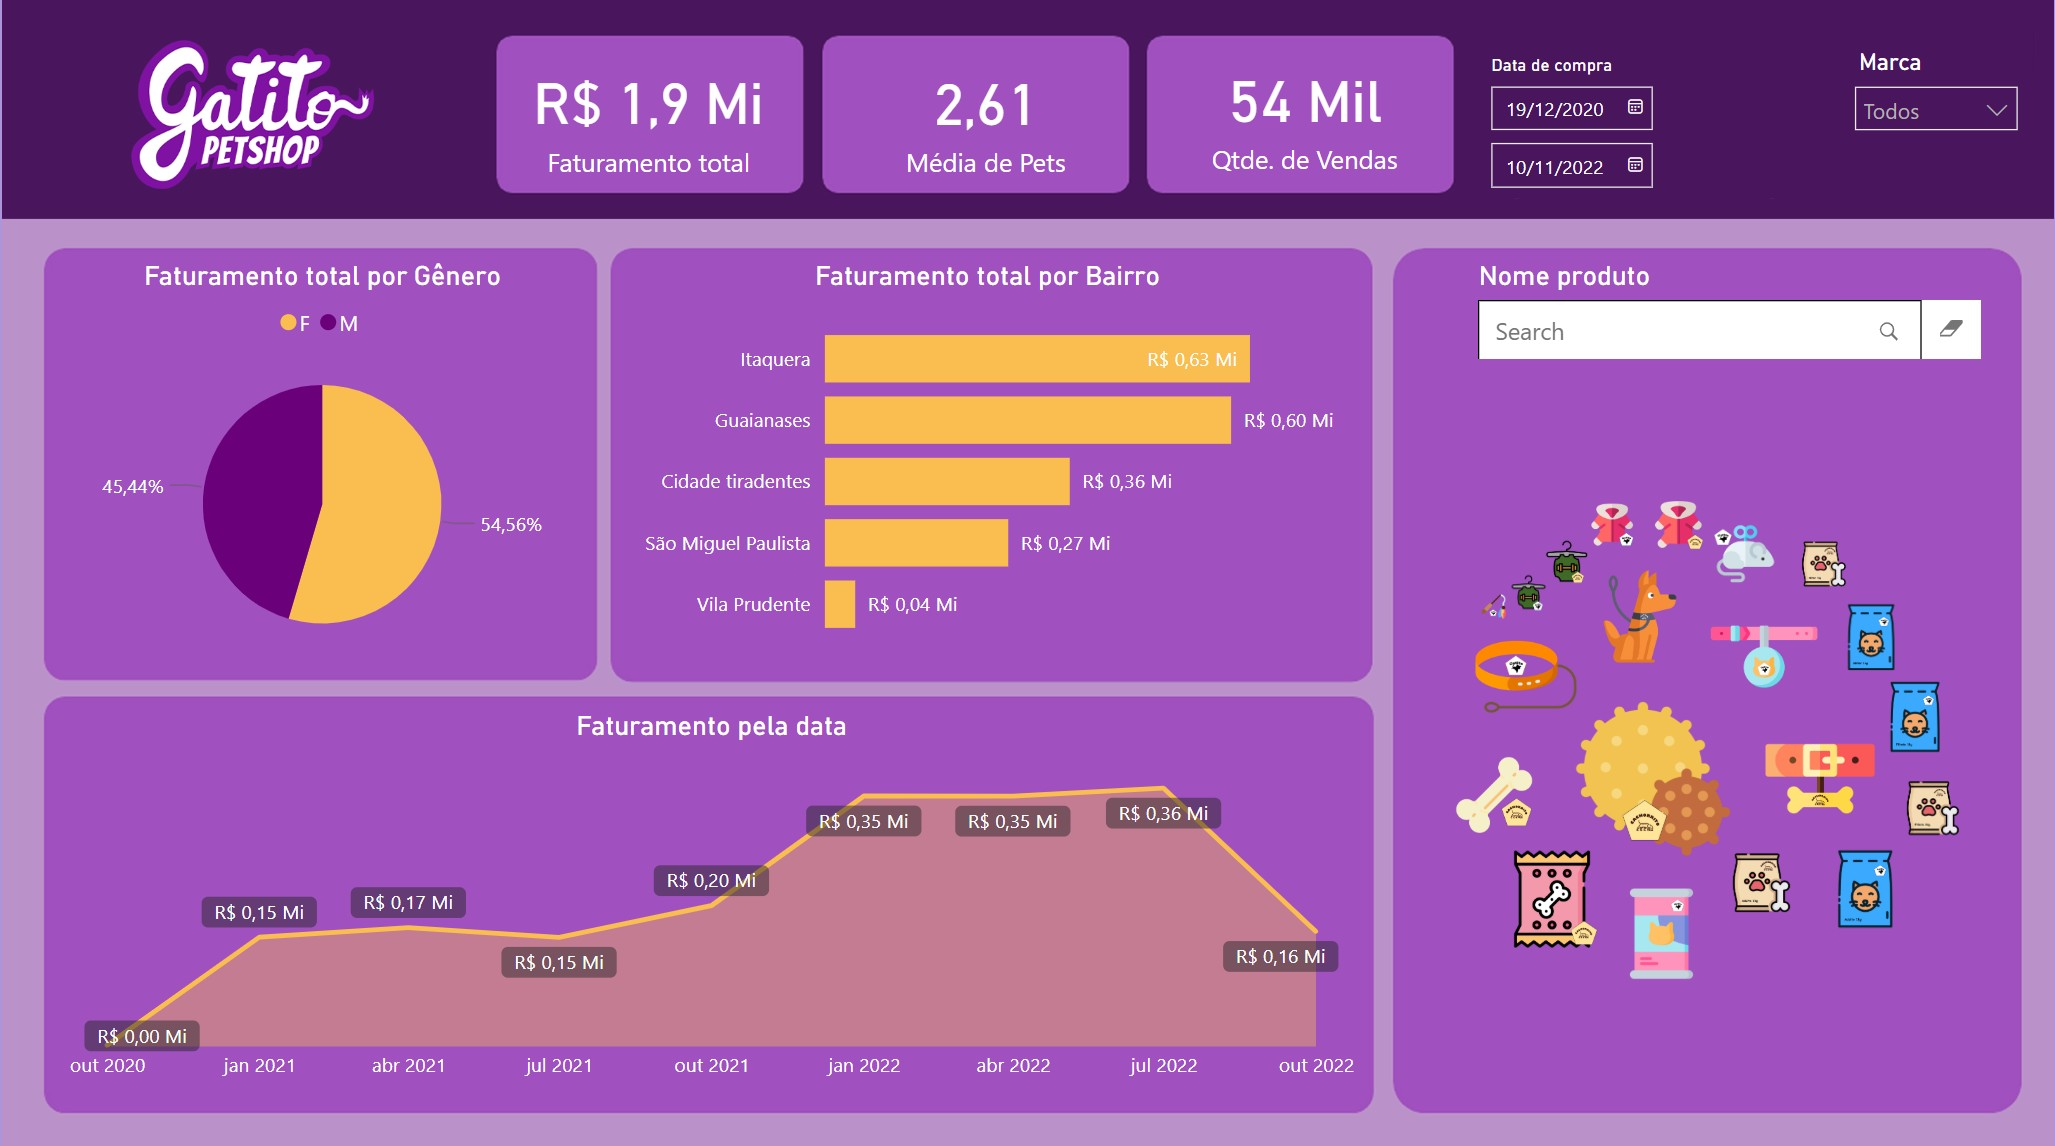

The dashboard page shown, as its layout file describes it:
{"tool":"powerbi","page":{"name":"Página 1","canvas":[1280,720],"ordinal":0},"visuals":[{"type":"card","fields":{"Values":["Avg(Clientes.Pets)"]},"box":[533.3,23.8,161,101.5],"z":0},{"type":"card","fields":{"Values":["Sum(Vendas.Quantidade)"]},"box":[729.1,27.4,167.4,89.7],"z":1000},{"type":"card","fields":{"Values":["Vendas.Faturamento total"]},"box":[310.1,30.2,186.6,86.9],"z":2000},{"type":"pieChart","fields":{"Category":["Clientes.Gênero"],"Y":["Vendas.Faturamento total"]},"box":[36.6,162.8,326.6,257.1],"z":4000},{"type":"clusteredBarChart","fields":{"Category":["Clientes.Bairro"],"Y":["Vendas.Faturamento total"]},"box":[387.9,162.8,454.7,251.6],"z":5000},{"type":"areaChart","title":"Faturamento pela data","fields":{"Category":["Vendas.Data de compra.Variation.Hierarquia de datas.Ano","Vendas.Data de compra.Variation.Hierarquia de datas.Trimestre","Vendas.Data de compra.Variation.Hierarquia de datas.Mês","Vendas.Data de compra.Variation.Hierarquia de datas.Dia"],"Y":["Vendas.Faturamento total"]},"box":[36.6,443.7,812.4,240.6],"z":6000},{"type":"ImageGrid_FC5183B9_926C_45E0_B5F7_0CE9EAF1DA9B","fields":{"ImageURL":["Produtos.Url img"]},"box":[881.9,241.5,365.9,442.8],"z":7000},{"type":"textFilter25A4896A83E0487089E2B90C9AE57C8A","fields":{"field":["Produtos.Nome produto"]},"box":[916.6,162.8,323.8,67.7],"z":8000},{"type":"slicer","fields":{"Values":["Produtos.Marca"]},"box":[1145.4,26.5,121.7,90.6],"z":9000},{"type":"slicer","fields":{"Values":["Vendas.Data de compra"]},"box":[916.6,30.2,220.5,95.1],"z":10000}]}

Visuals, with their boxes in screenshot pixels (x1, y1, x2, y2), scaled from the page's 1280x720 canvas onto the 2055x1146 screenshot:
card - Avg(Clientes.Pets): (x1=856, y1=38, x2=1115, y2=199)
card - Sum(Vendas.Quantidade): (x1=1171, y1=44, x2=1439, y2=186)
card - Vendas.Faturamento total: (x1=498, y1=48, x2=797, y2=186)
pieChart - Clientes.Gênero x Vendas.Faturamento total: (x1=59, y1=259, x2=583, y2=668)
clusteredBarChart - Clientes.Bairro x Vendas.Faturamento total: (x1=623, y1=259, x2=1353, y2=660)
"Faturamento pela data" areaChart: (x1=59, y1=706, x2=1363, y2=1089)
ImageGrid_FC5183B9_926C_45E0_B5F7_0CE9EAF1DA9B - Produtos.Url img: (x1=1416, y1=384, x2=2003, y2=1089)
textFilter25A4896A83E0487089E2B90C9AE57C8A - Produtos.Nome produto: (x1=1472, y1=259, x2=1991, y2=367)
slicer - Produtos.Marca: (x1=1839, y1=42, x2=2034, y2=186)
slicer - Vendas.Data de compra: (x1=1472, y1=48, x2=1826, y2=199)
